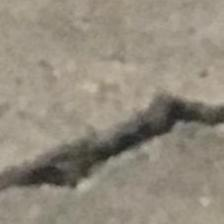Crack: (5, 94, 224, 204)
